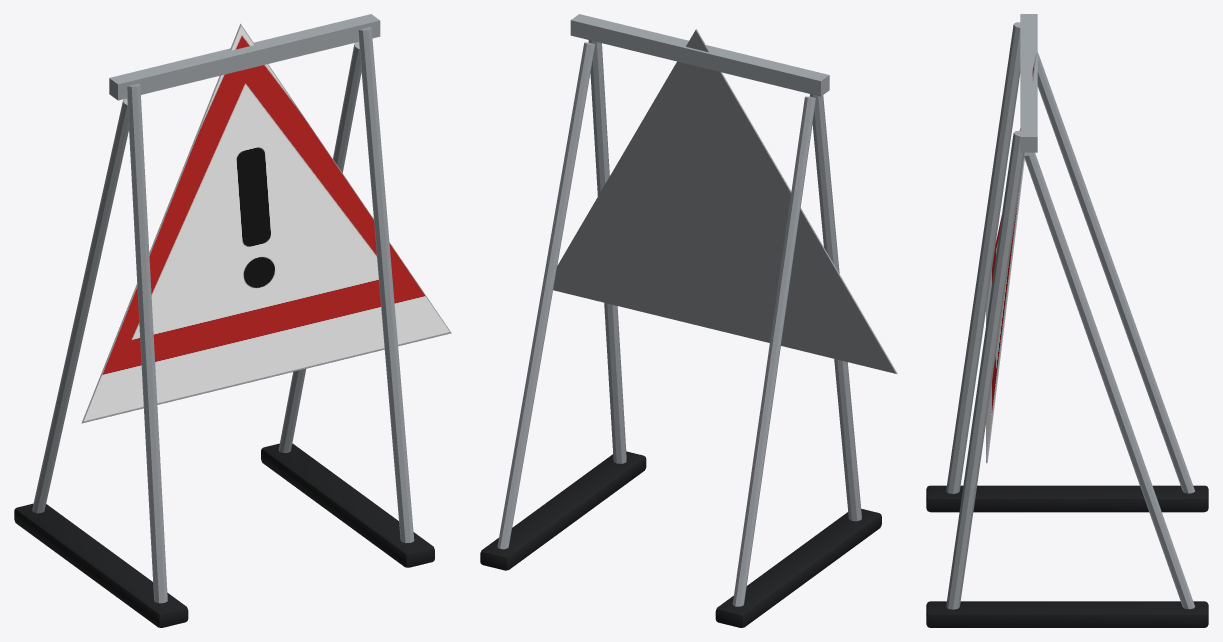
Rendered from road-works-sign.glb.
3 renders of one model, left to right at view 1: azimuth 30°, elevation 25°; view 2: azimuth 150°, elevation 25°; view 3: azimuth 270°, elevation 25°, orthographic. The views are drawn at different scales.
Visible parts, largest first — view 1: Road_Works_Sign; view 2: Road_Works_Sign; view 3: Road_Works_Sign.
Part boxes in pixels (bbox=[...]): Road_Works_Sign: bbox=[14, 14, 451, 627]; Road_Works_Sign: bbox=[480, 14, 897, 627]; Road_Works_Sign: bbox=[926, 14, 1208, 627].
Bounding box in the file's own units: 0.96 × 1.32 × 0.66.
3 materials, 1 textured.
